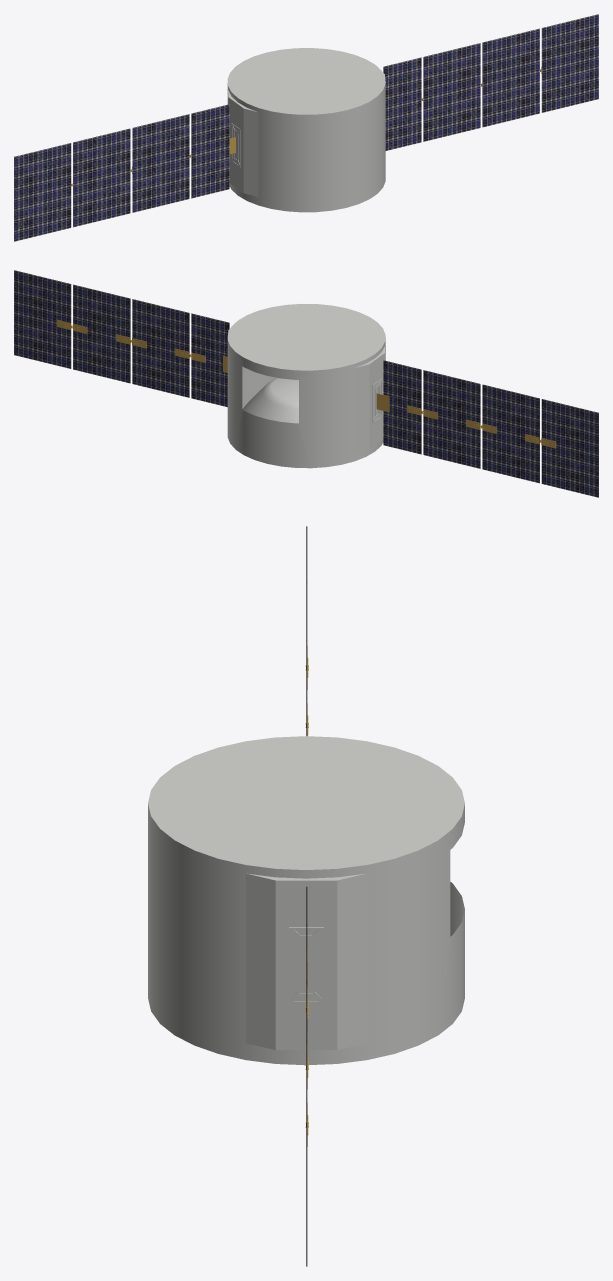
The model's file is dragon-dragon-1-trunk.glb.
3 views of the same model, one above another, from view 1: azimuth 30°, elevation 25°; view 2: azimuth 150°, elevation 25°; view 3: azimuth 270°, elevation 25° (orthographic). The views are drawn at different scales.
Visible parts, largest first — view 1: trunk; view 2: trunk; view 3: trunk.
Part boxes in pixels (<box>): trunk: <box>14,14,598,241</box>; trunk: <box>14,270,598,497</box>; trunk: <box>148,526,464,1266</box>.
Size of the model in its own units: 14.43 by 2.3 by 3.39.
4 materials, 1 textured.
